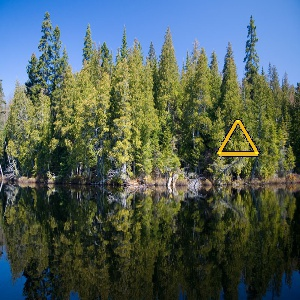triangle: (214, 116, 260, 162)
